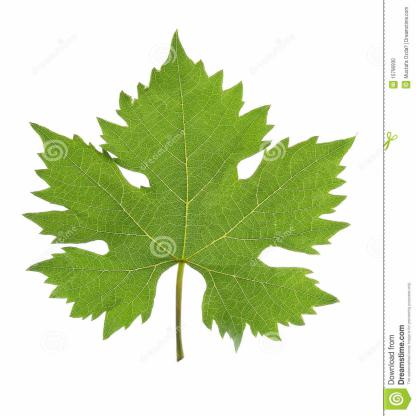grape leaf: (24, 27, 369, 365)
